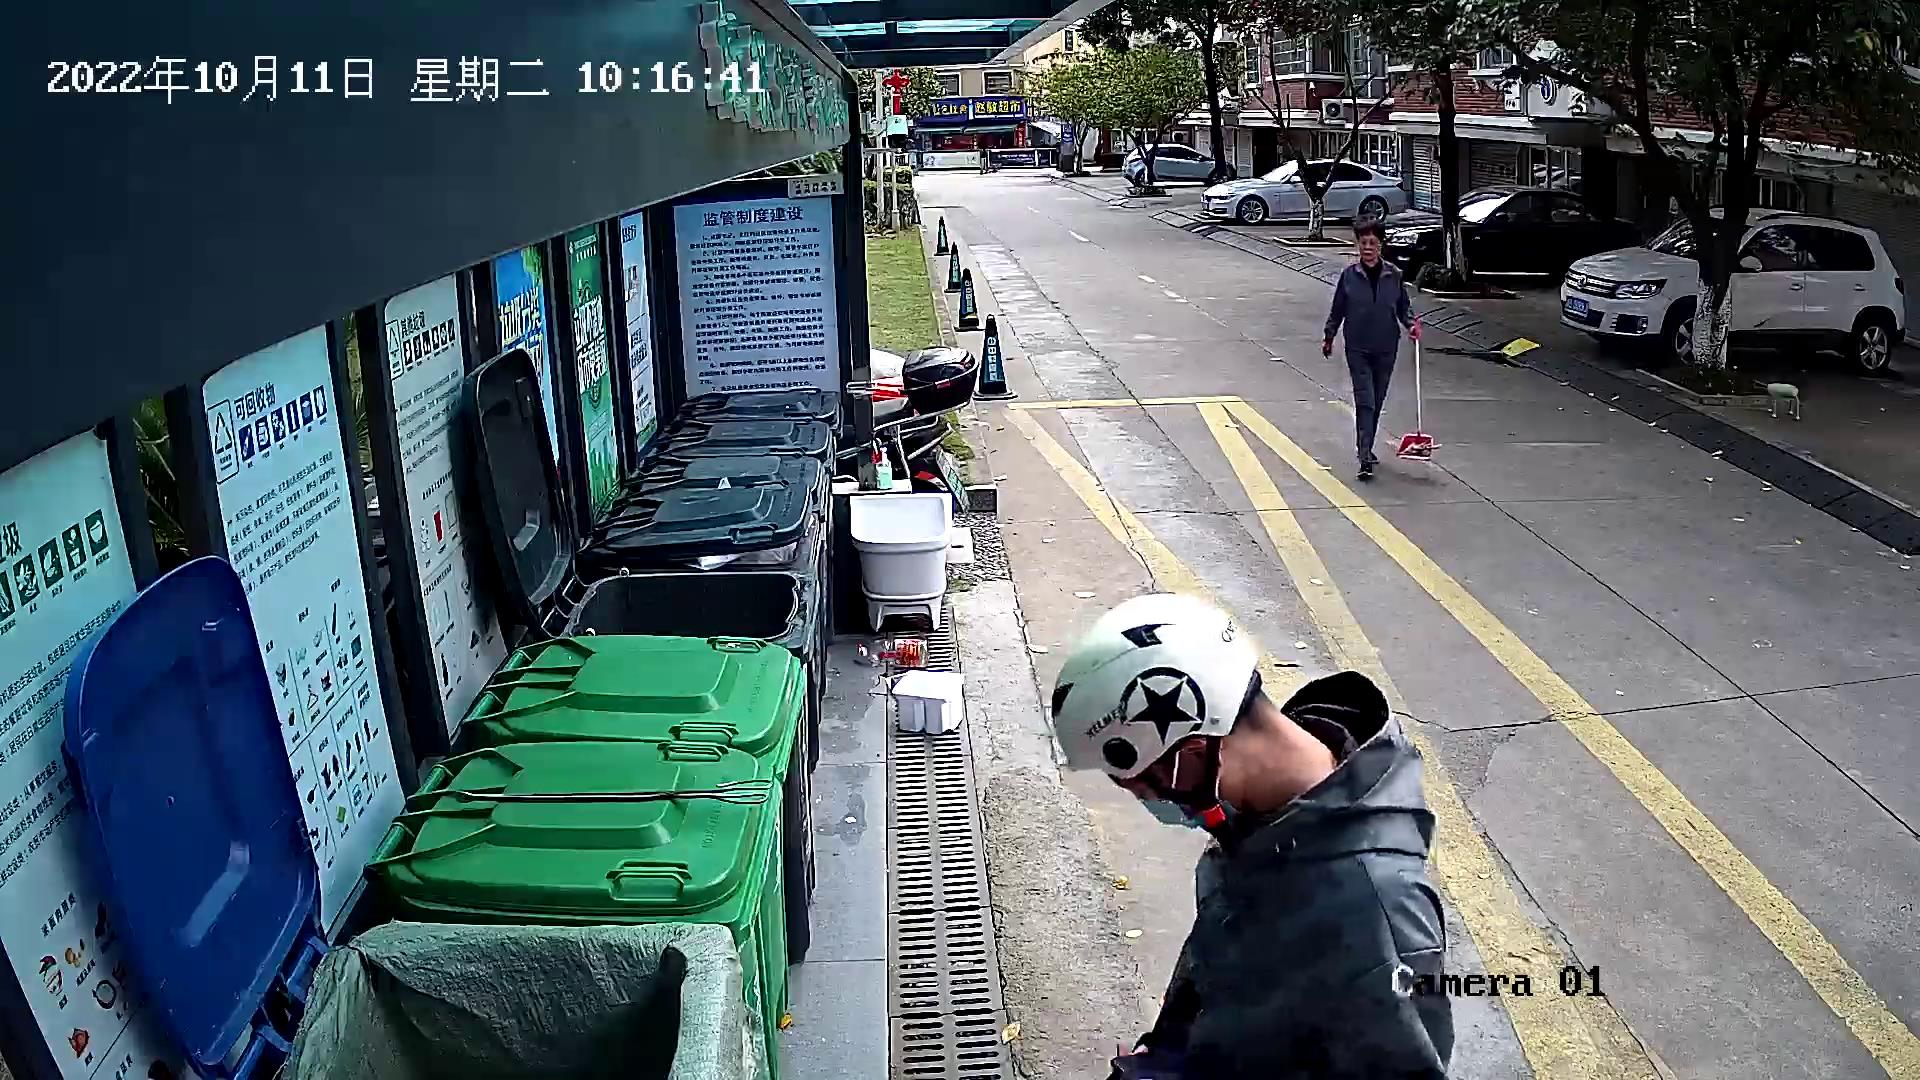paomozhipin: (883, 662, 973, 739)
person: (1042, 583, 1466, 1080), (1318, 219, 1428, 478)
suliaozhipin: (852, 625, 939, 672)
